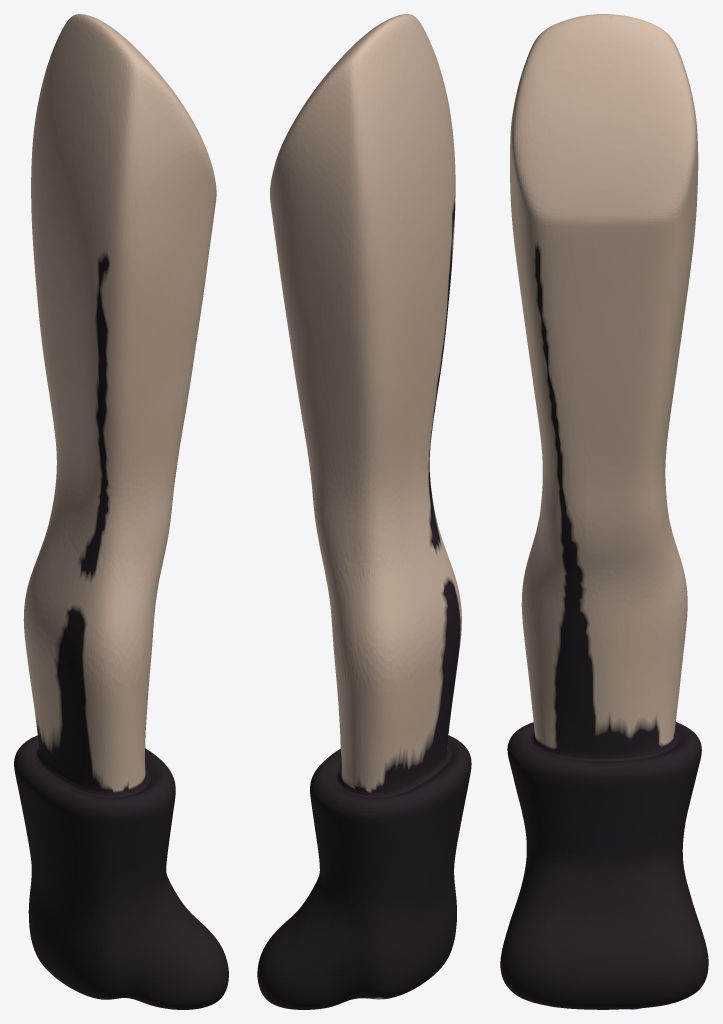
Rendered from leg_L.glb.
3 renders of one model, left to right at view 1: azimuth 30°, elevation 25°; view 2: azimuth 150°, elevation 25°; view 3: azimuth 270°, elevation 25°, orthographic.
Parts seen in each view (by area): view 1: geometry_0; view 2: geometry_0; view 3: geometry_0.
Boxes of the visible parts, <box> form: geometry_0: <box>14,14,228,1009</box>; geometry_0: <box>257,14,471,1009</box>; geometry_0: <box>500,14,708,1009</box>.
Bounding box in the file's own units: 0.224 × 1.26 × 0.2487.
